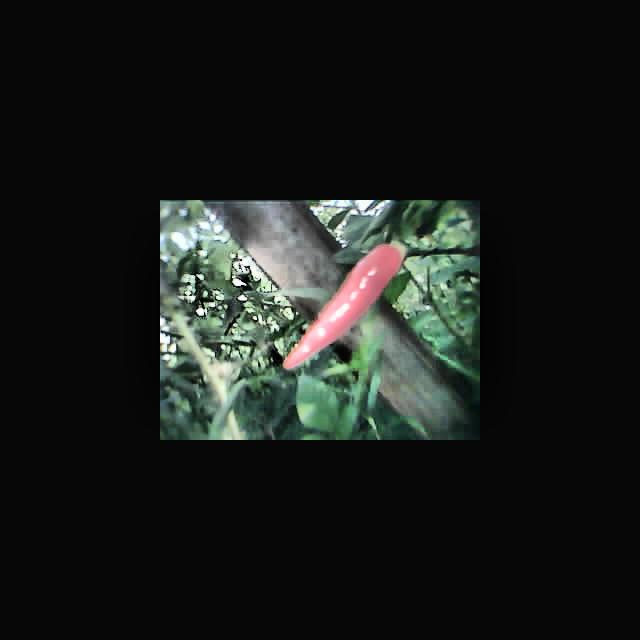Cabai: (273, 235, 407, 376)
